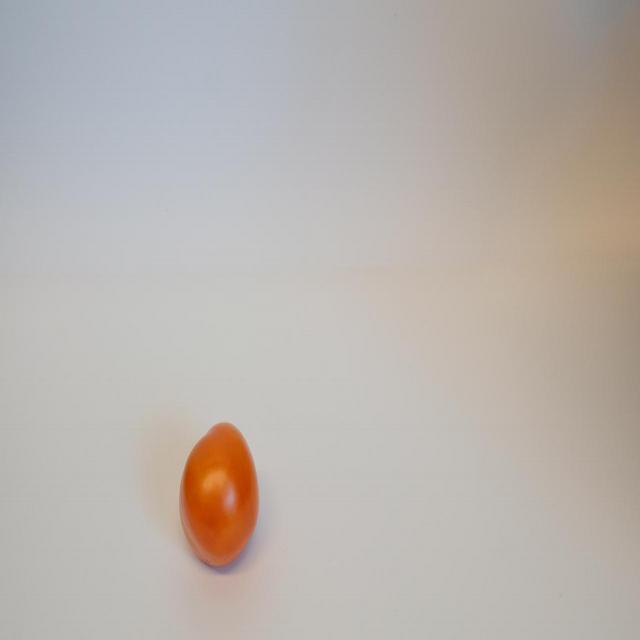tomato: (178, 419, 260, 567)
